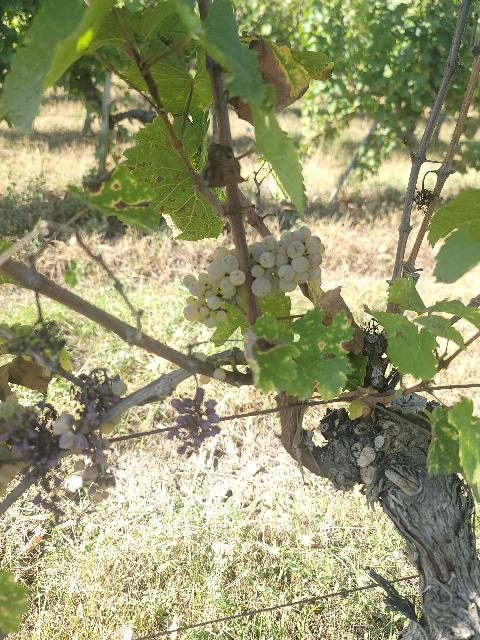grapes: (248, 226, 324, 299), (182, 246, 246, 328)
